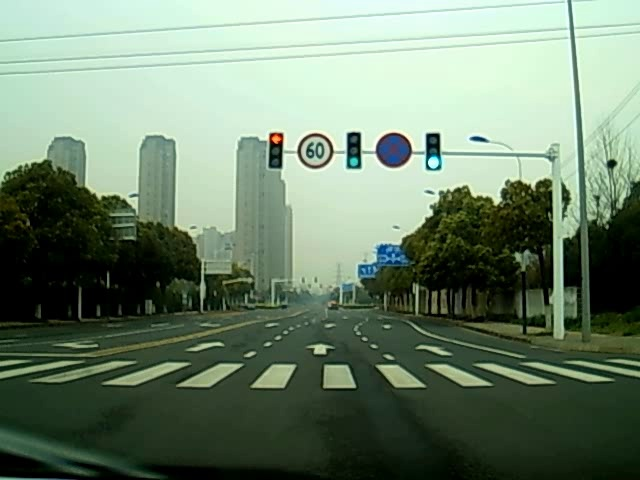Traffic_Light_go: (345, 133, 363, 169), (426, 133, 442, 170)
Traffic_Light_stop: (269, 133, 283, 169)
